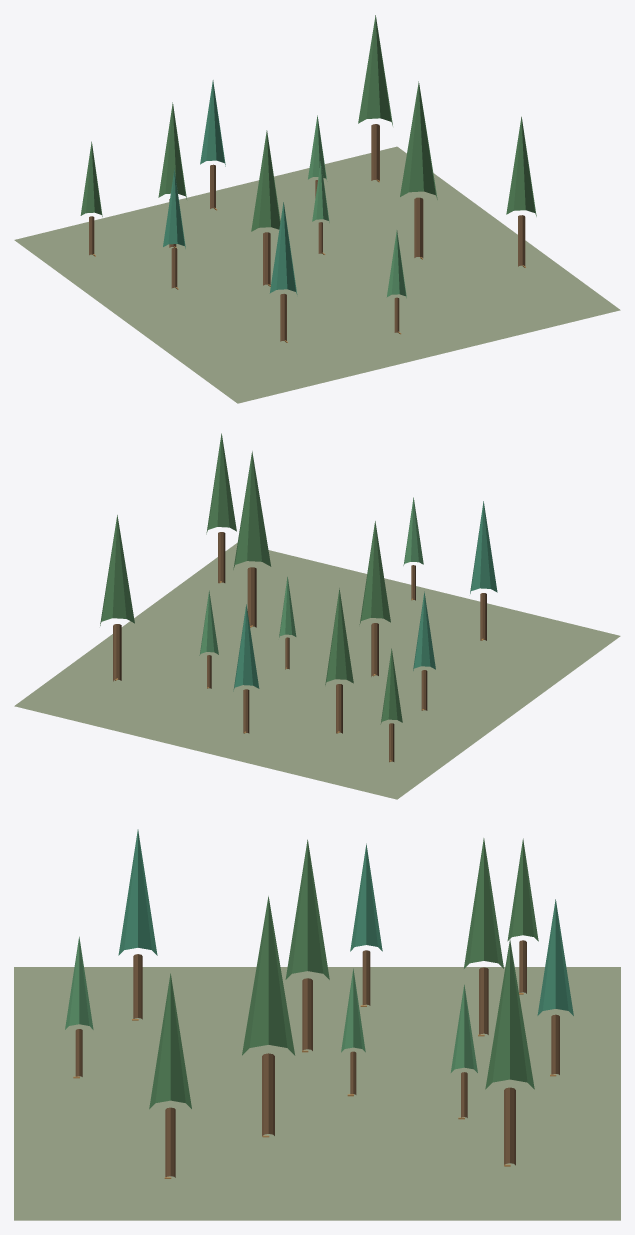
3 views of the same model, one above another, from view 1: azimuth 30°, elevation 25°; view 2: azimuth 150°, elevation 25°; view 3: azimuth 270°, elevation 25° (orthographic). The views are drawn at different scales.
Parts seen in each view (by area): view 1: ground, tree:ST009, tree:ST005, tree:ST007, tree:ST012, tree:ST010, tree:ST003, tree:ST002, tree:ST006, tree:ST001, tree:ST011, tree:ST008 (+1 smaller); view 2: ground, tree:ST009, tree:ST005, tree:ST007, tree:ST012, tree:ST002, tree:ST010, tree:ST003, tree:ST006, tree:ST001, tree:ST011, tree:ST004 (+1 smaller); view 3: ground, tree:ST009, tree:ST005, tree:ST007, tree:ST012, tree:ST002, tree:ST010, tree:ST003, tree:ST006, tree:ST001, tree:ST011, tree:ST004 (+1 smaller).
Part boxes in pixels (x1=…): ground: x1=14, y1=146, x2=620, y2=403; tree:ST009: x1=400, y1=81, x2=437, y2=257; tree:ST005: x1=358, y1=15, x2=392, y2=180; tree:ST007: x1=251, y1=130, x2=280, y2=285; tree:ST012: x1=506, y1=116, x2=536, y2=266; tree:ST010: x1=269, y1=202, x2=297, y2=341; tree:ST003: x1=200, y1=80, x2=225, y2=208; tree:ST002: x1=158, y1=102, x2=186, y2=247; tree:ST006: x1=163, y1=169, x2=185, y2=288; tree:ST001: x1=80, y1=141, x2=102, y2=255; tree:ST011: x1=386, y1=230, x2=406, y2=332; tree:ST008: x1=312, y1=161, x2=329, y2=253; ground: x1=14, y1=543, x2=620, y2=799; tree:ST009: x1=233, y1=451, x2=271, y2=627; tree:ST005: x1=100, y1=515, x2=134, y2=681; tree:ST007: x1=359, y1=521, x2=390, y2=676; tree:ST012: x1=206, y1=433, x2=236, y2=583; tree:ST002: x1=325, y1=588, x2=353, y2=733; tree:ST010: x1=470, y1=501, x2=497, y2=640; tree:ST003: x1=233, y1=604, x2=259, y2=733; tree:ST006: x1=413, y1=591, x2=435, y2=710; tree:ST001: x1=380, y1=648, x2=402, y2=762; tree:ST011: x1=403, y1=497, x2=423, y2=600; tree:ST004: x1=199, y1=590, x2=218, y2=688; ground: x1=14, y1=967, x2=620, y2=1220; tree:ST009: x1=242, y1=896, x2=295, y2=1136; tree:ST005: x1=485, y1=939, x2=534, y2=1165; tree:ST007: x1=285, y1=839, x2=329, y2=1050; tree:ST012: x1=149, y1=973, x2=191, y2=1177; tree:ST002: x1=464, y1=838, x2=503, y2=1034; tree:ST010: x1=118, y1=829, x2=157, y2=1019; tree:ST003: x1=537, y1=899, x2=573, y2=1074; tree:ST006: x1=350, y1=843, x2=382, y2=1005; tree:ST001: x1=507, y1=838, x2=538, y2=993; tree:ST011: x1=65, y1=936, x2=93, y2=1076; tree:ST004: x1=450, y1=984, x2=477, y2=1117.
Bounding box in the file's own units: 92 × 42.9 × 93.
